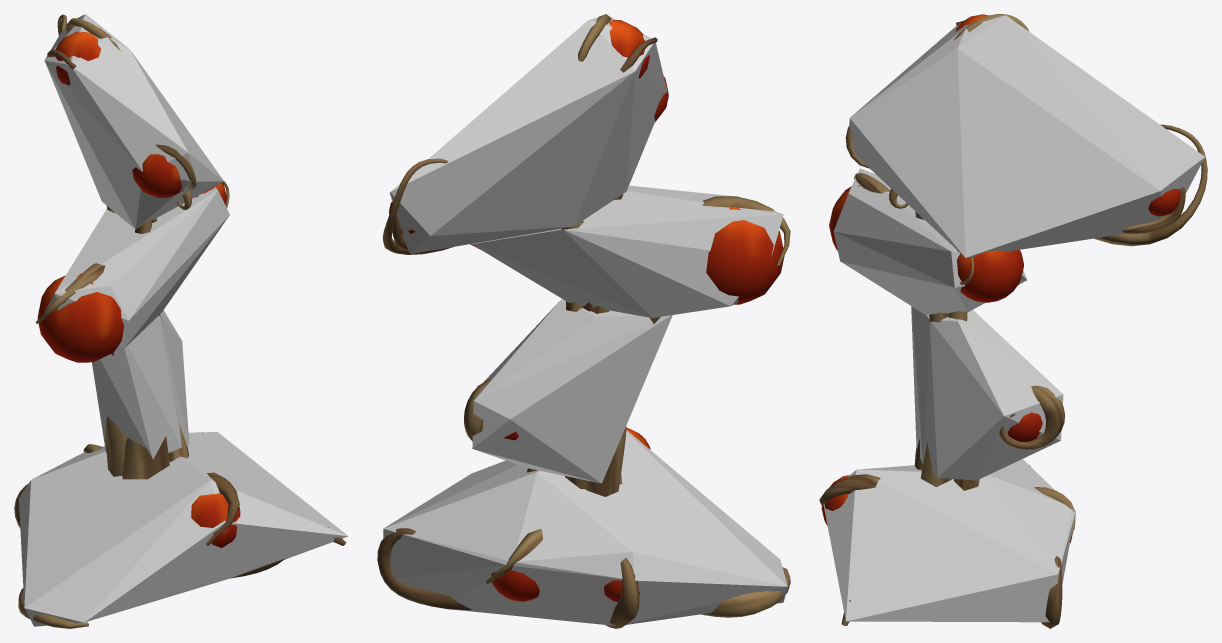
Rendered from SM_Berries.fbx.
The picture shows the model from 3 angles, left to right: view 1: azimuth 30°, elevation 25°; view 2: azimuth 150°, elevation 25°; view 3: azimuth 270°, elevation 25°; orthographic projection. The views are drawn at different scales.
Visible parts, largest first — view 1: SM_Berries_ConvexHulls, SM_Berries; view 2: SM_Berries_ConvexHulls, SM_Berries; view 3: SM_Berries_ConvexHulls, SM_Berries.
Part boxes in pixels (box(x1,y1,x2,y2)): SM_Berries_ConvexHulls: box(19, 14, 348, 626); SM_Berries: box(14, 14, 346, 628); SM_Berries_ConvexHulls: box(383, 15, 787, 625); SM_Berries: box(377, 14, 790, 628); SM_Berries_ConvexHulls: box(823, 15, 1204, 622); SM_Berries: box(819, 14, 1207, 628).
Size of the model in its own units: 52.01 by 56.82 by 89.05.
2 materials, 1 textured.
